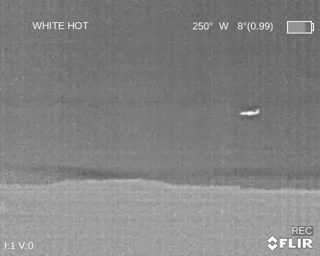AIRPLANE: (238, 107, 261, 117)
